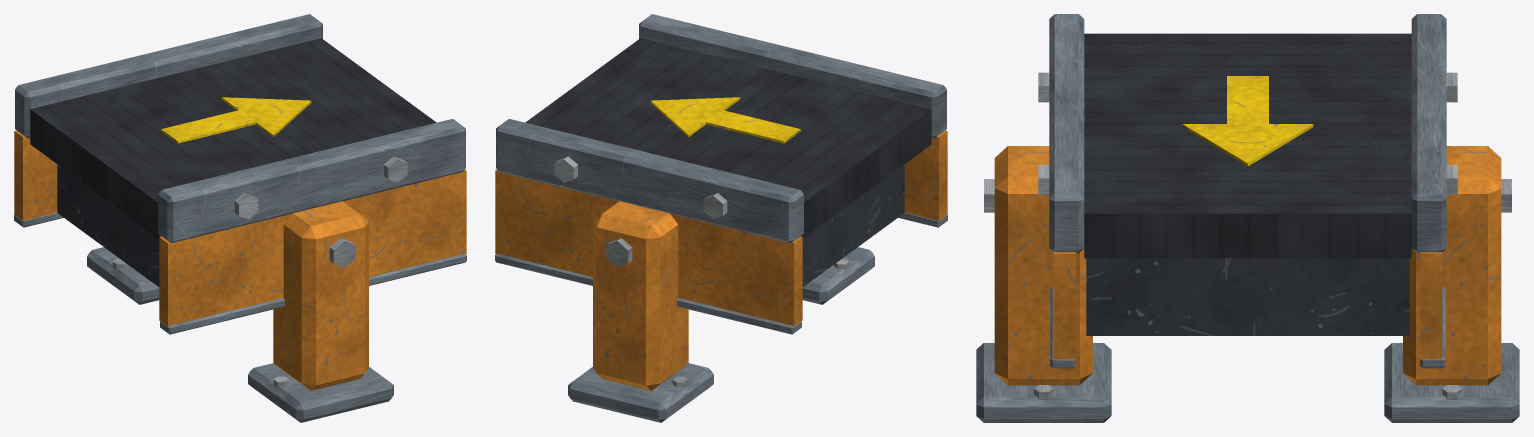
Rendered from conveyor_segment.fbx.
3 views of the same model, side by side, from view 1: azimuth 30°, elevation 25°; view 2: azimuth 150°, elevation 25°; view 3: azimuth 270°, elevation 25° (orthographic). The views are drawn at different scales.
Parts seen in each view (by area): view 1: ConveyorSegment_Orange, ConveyorSegment_Belt, ConveyorSegment_SteelGrey, ConveyorSegment_DarkGrey, ConveyorSegment_Yellow, ConveyorSegment_SteelLight; view 2: ConveyorSegment_Orange, ConveyorSegment_Belt, ConveyorSegment_SteelGrey, ConveyorSegment_DarkGrey, ConveyorSegment_Yellow, ConveyorSegment_SteelLight; view 3: ConveyorSegment_Belt, ConveyorSegment_Orange, ConveyorSegment_SteelGrey, ConveyorSegment_DarkGrey, ConveyorSegment_Yellow, ConveyorSegment_SteelLight.
Part boxes in pixels (left/top/right/bottom): ConveyorSegment_Orange: left=14, top=130, right=466, bottom=390; ConveyorSegment_Belt: left=30, top=38, right=436, bottom=238; ConveyorSegment_SteelGrey: left=14, top=14, right=466, bottom=422; ConveyorSegment_DarkGrey: left=57, top=164, right=159, bottom=286; ConveyorSegment_Yellow: left=161, top=97, right=311, bottom=143; ConveyorSegment_SteelLight: left=112, top=156, right=407, bottom=388; ConveyorSegment_Orange: left=495, top=130, right=947, bottom=390; ConveyorSegment_Belt: left=525, top=38, right=931, bottom=238; ConveyorSegment_SteelGrey: left=495, top=14, right=947, bottom=422; ConveyorSegment_DarkGrey: left=802, top=164, right=904, bottom=286; ConveyorSegment_Yellow: left=650, top=97, right=800, bottom=143; ConveyorSegment_SteelLight: left=554, top=156, right=849, bottom=388; ConveyorSegment_Belt: left=1084, top=33, right=1411, bottom=258; ConveyorSegment_Orange: left=994, top=146, right=1501, bottom=385; ConveyorSegment_SteelGrey: left=976, top=14, right=1519, bottom=422; ConveyorSegment_DarkGrey: left=1086, top=258, right=1409, bottom=335; ConveyorSegment_Yellow: left=1182, top=76, right=1313, bottom=166; ConveyorSegment_SteelLight: left=984, top=72, right=1511, bottom=399.
Size of the model in its own units: 4 by 2.95 by 4.98.
Materials: 6 (6 with a texture image).
